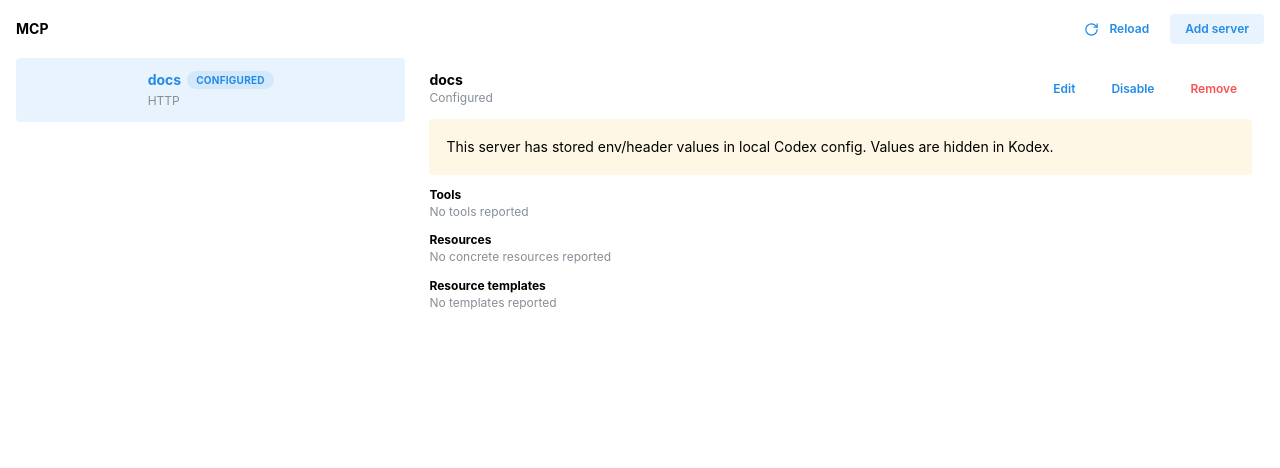
Test case: reports saved overrides and failed reload requests while retaining the effective native row
The image size is (1280, 468).
Click the button "Disable". click: [1133, 88]
box: [1096,74,1169,104]
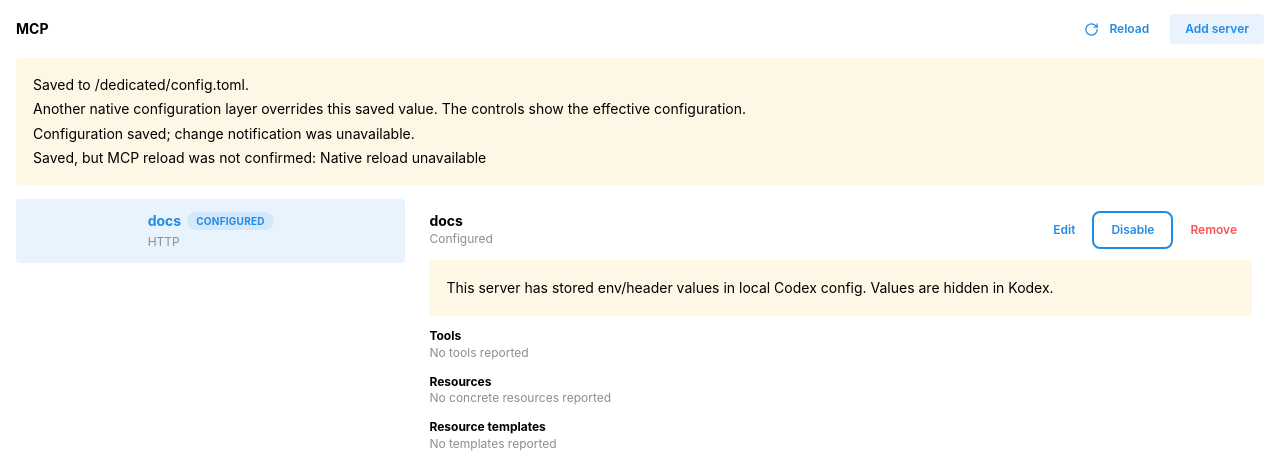
Expected: the text "Saved, but MCP reload was not confirmed: Native reload unavailable" is shown, [33,149,486,166]
Expected: the text "Another native configuration layer overrides" is shown, [33,100,746,117]
Expected: the text "Configuration saved; change notification was unavailable." is shown, [33,125,415,142]
